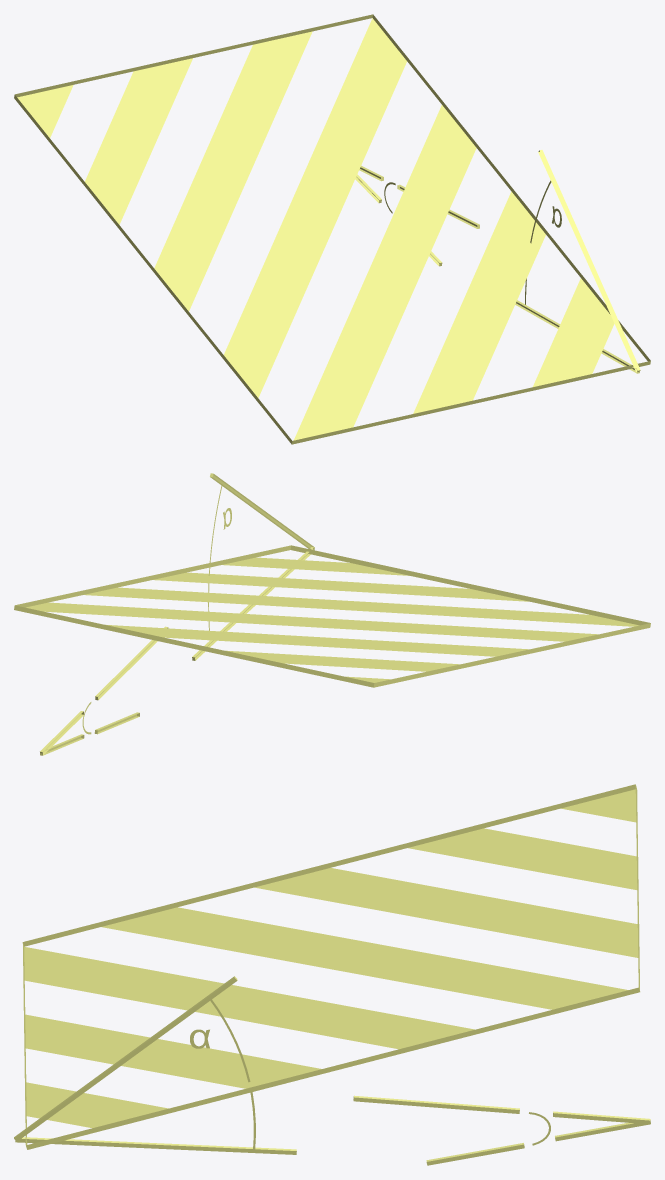
File: Axial.glb
3 views of the same model, one above another, from view 1: azimuth 30°, elevation 25°; view 2: azimuth 150°, elevation 25°; view 3: azimuth 270°, elevation 25° (orthographic). The views are drawn at different scales.
Visible parts, largest first — view 1: Plane.004, BézierCurve.001; view 2: Plane.004, BézierCurve.001; view 3: Plane.004, BézierCurve.001, BézierCurve.002.
Boxes of the visible parts, <box> form: Plane.004: <box>14,14,650,444</box>; BézierCurve.001: <box>355,150,640,373</box>; Plane.004: <box>14,545,650,687</box>; BézierCurve.001: <box>40,473,314,755</box>; Plane.004: <box>22,784,640,1149</box>; BézierCurve.001: <box>14,976,650,1165</box>; BézierCurve.002: <box>209,998,550,1150</box>.
Size of the model in its own units: 0.1252 by 0.061 by 0.174.
